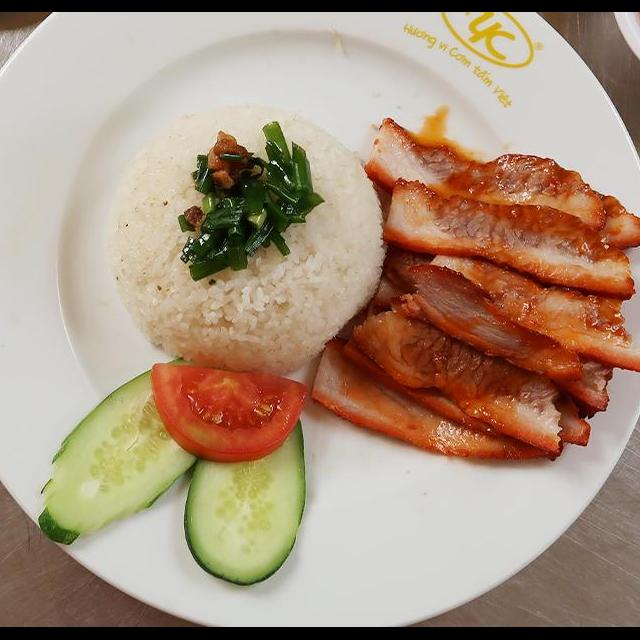com: (103, 98, 392, 380)
com suon: (0, 64, 640, 578)
suon: (307, 114, 640, 465)
